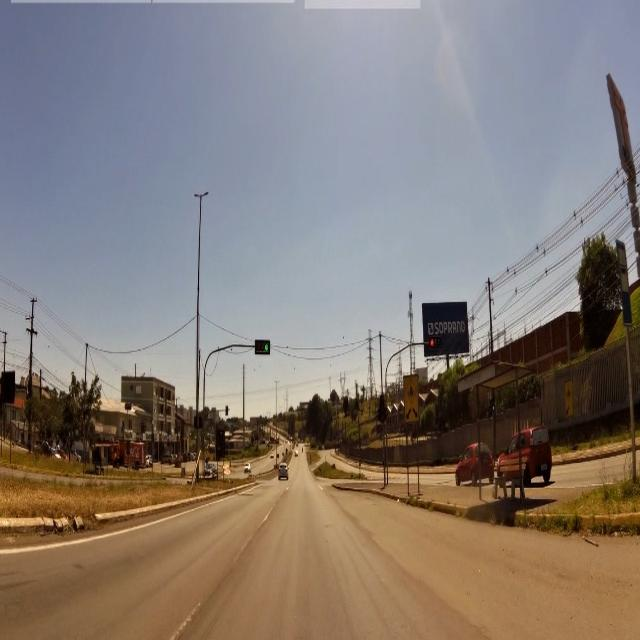A-32b: (406, 380, 418, 404)
